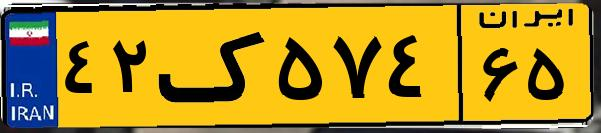2: (110, 28, 158, 98)
4: (385, 28, 445, 110), (57, 26, 110, 100)
5: (270, 28, 330, 110), (525, 38, 570, 115)
6: (475, 38, 525, 113)
7: (330, 28, 385, 110)
ک: (158, 12, 270, 120)
